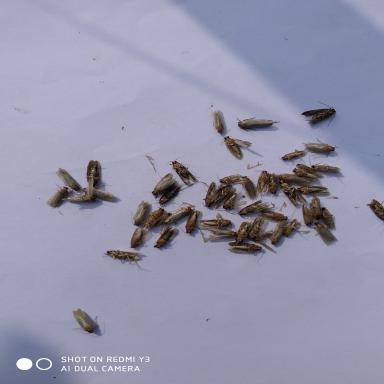pbw: (161, 154, 201, 188), (66, 304, 105, 336), (298, 135, 342, 161), (274, 177, 311, 206), (234, 115, 283, 136), (57, 192, 114, 210), (216, 135, 255, 161), (223, 238, 263, 263), (197, 226, 252, 243), (145, 172, 176, 202), (100, 248, 146, 268), (210, 184, 243, 211), (51, 166, 83, 193), (200, 180, 229, 209), (233, 199, 270, 221), (157, 205, 193, 227), (175, 208, 202, 237), (310, 220, 339, 247), (84, 158, 110, 188), (258, 172, 290, 196), (127, 198, 152, 228), (155, 182, 187, 205), (229, 218, 255, 246), (233, 173, 258, 202), (44, 184, 70, 211), (152, 225, 180, 250), (77, 185, 118, 202), (313, 204, 336, 234), (258, 208, 297, 225), (209, 108, 233, 135), (253, 168, 273, 200), (288, 183, 333, 197), (277, 171, 314, 188), (266, 220, 290, 246), (365, 195, 383, 229), (306, 160, 344, 176), (140, 206, 165, 230), (243, 215, 266, 241), (123, 228, 150, 250), (278, 148, 310, 166), (276, 218, 302, 240), (296, 204, 318, 229), (212, 172, 246, 188), (197, 216, 234, 230), (305, 192, 322, 222), (246, 228, 275, 244), (293, 162, 323, 176), (150, 211, 173, 229), (82, 174, 97, 198)
